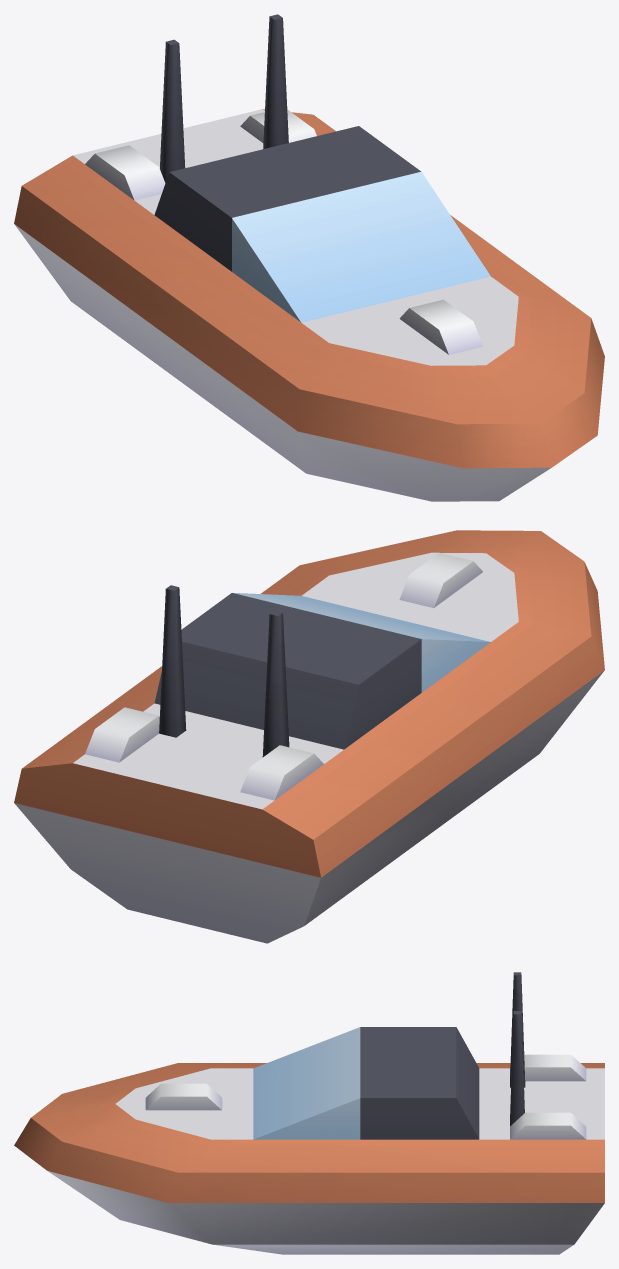
Rendered from boat-speed-i-transformed-transformed.glb.
The picture shows the model from 3 angles, top to bottom: view 1: azimuth 30°, elevation 25°; view 2: azimuth 150°, elevation 25°; view 3: azimuth 270°, elevation 25°; orthographic projection. The views are drawn at different scales.
Visible parts, largest first — view 1: boat-speed-i; view 2: boat-speed-i; view 3: boat-speed-i.
Part boxes in pixels (box(x1,y1,x2,y2)): boat-speed-i: box(14, 14, 604, 501); boat-speed-i: box(14, 530, 604, 943); boat-speed-i: box(14, 972, 604, 1254).
Bounding box in the file's own units: 1.79 × 1.7 × 3.87.
1 material, 1 textured.
